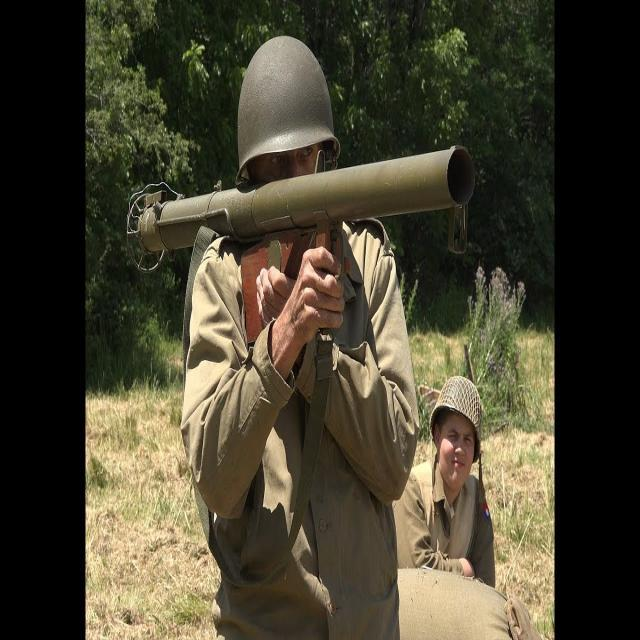rocket launcher: (124, 141, 477, 281)
